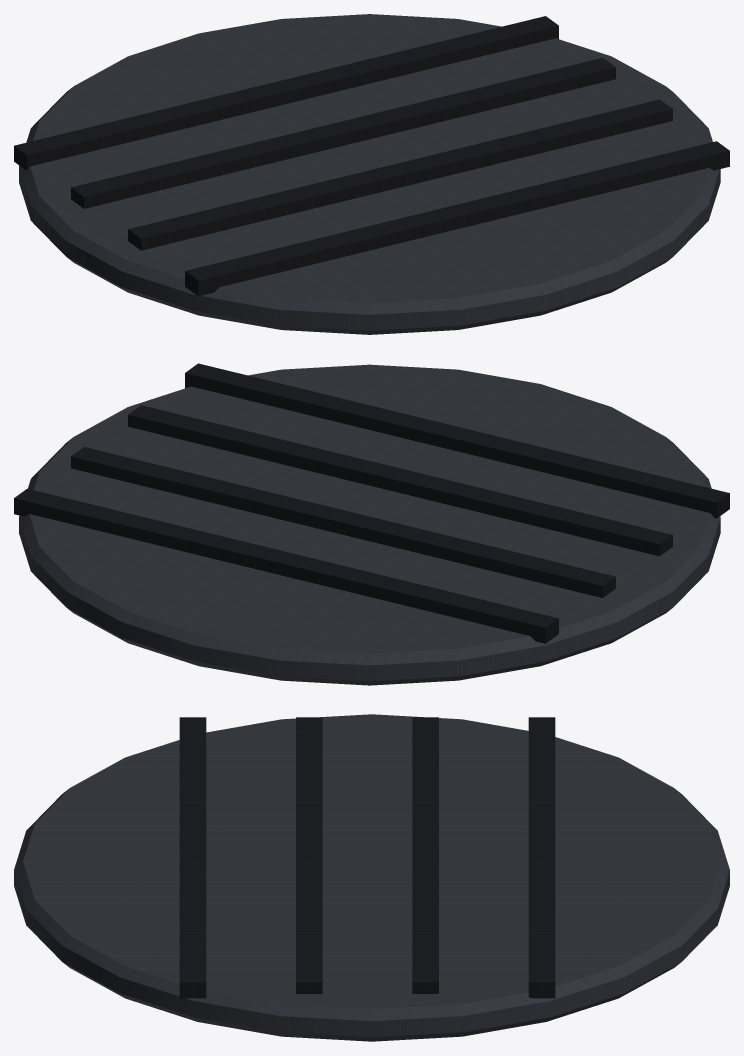
File: kit_manhole.glb
3 views of the same model, one above another, from view 1: azimuth 30°, elevation 25°; view 2: azimuth 150°, elevation 25°; view 3: azimuth 270°, elevation 25° (orthographic). The views are drawn at different scales.
Visible parts, largest first — view 1: mh_cover, mh_ridge0, mh_ridge3, mh_ridge1, mh_ridge2; view 2: mh_cover, mh_ridge3, mh_ridge0, mh_ridge1, mh_ridge2; view 3: mh_cover, mh_ridge0, mh_ridge3, mh_ridge1, mh_ridge2.
Part boxes in pixels (bbox=[...]): mh_cover: bbox=[19, 14, 720, 334]; mh_ridge0: bbox=[185, 141, 729, 296]; mh_ridge3: bbox=[14, 16, 558, 170]; mh_ridge1: bbox=[128, 99, 672, 250]; mh_ridge2: bbox=[71, 57, 615, 208]; mh_cover: bbox=[19, 364, 720, 685]; mh_ridge3: bbox=[14, 488, 558, 643]; mh_ridge0: bbox=[185, 363, 729, 518]; mh_ridge1: bbox=[128, 405, 672, 556]; mh_ridge2: bbox=[71, 447, 615, 597]; mh_cover: bbox=[14, 714, 729, 1041]; mh_ridge0: bbox=[179, 717, 206, 998]; mh_ridge3: bbox=[528, 717, 555, 998]; mh_ridge1: bbox=[296, 717, 322, 993]; mh_ridge2: bbox=[412, 717, 438, 993].
Bounding box in the file's own units: 0.8 × 0.055 × 0.8.
2 materials, 2 textured.
